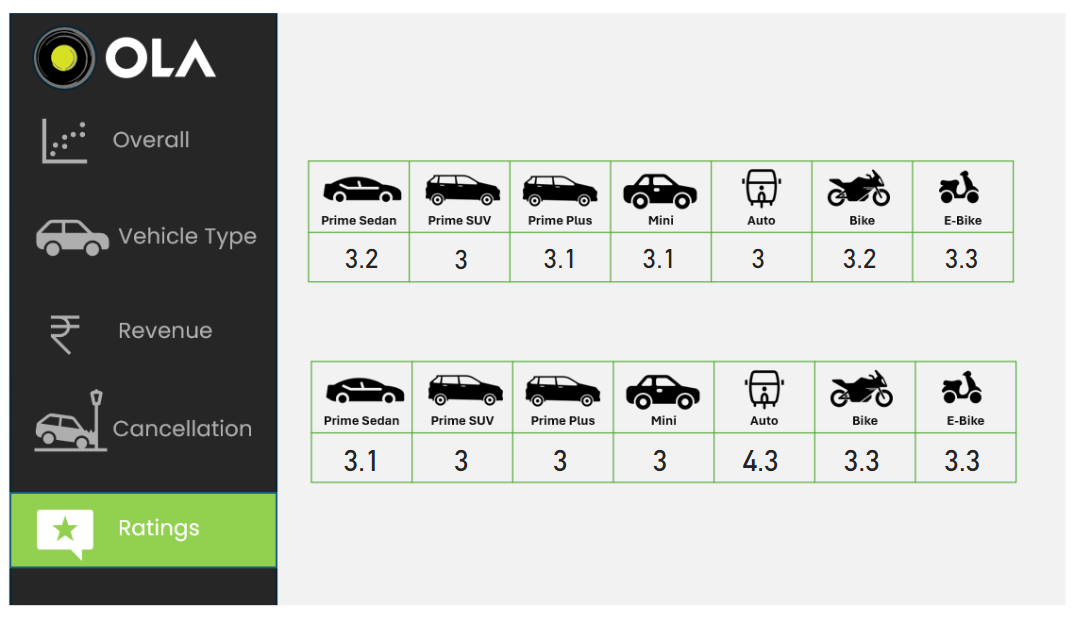

What the dashboard file says about the page in this screenshot:
{"tool":"powerbi","page":{"name":"Ratings","canvas":[1280,720],"ordinal":4},"visuals":[{"type":"card","fields":{"Values":["Min(ola booking.Driver_Ratings)"]},"box":[400.5,275,106.5,52.5],"z":0},{"type":"card","fields":{"Values":["Min(ola booking.Driver_Ratings)"]},"box":[507,278.1,104.9,49.3],"z":1000},{"type":"card","fields":{"Values":["Min(ola booking.Driver_Ratings)"]},"box":[611.9,275,104.9,52.5],"z":2000},{"type":"card","fields":{"Values":["Min(ola booking.Driver_Ratings)"]},"box":[716.8,275,104.9,52.5],"z":3000},{"type":"card","fields":{"Values":["Min(ola booking.Driver_Ratings)"]},"box":[821.7,275,104.9,52.5],"z":4000},{"type":"card","fields":{"Values":["Min(ola booking.Driver_Ratings)"]},"box":[926.6,275,109.7,52.5],"z":5000},{"type":"card","fields":{"Values":["Min(ola booking.Driver_Ratings)"]},"box":[1036.3,275,106.5,52.5],"z":6000},{"type":"card","fields":{"Values":["Min(ola booking.Customer_Rating)"]},"box":[400.5,492.7,106.5,44.5],"z":7000},{"type":"card","fields":{"Values":["Min(ola booking.Customer_Rating)"]},"box":[507,492.7,104.9,44.5],"z":8000},{"type":"card","fields":{"Values":["Min(ola booking.Customer_Rating)"]},"box":[611.9,492.7,104.9,44.5],"z":9000},{"type":"card","fields":{"Values":["Min(ola booking.Customer_Rating)"]},"box":[716.8,492.7,106.5,44.5],"z":10000},{"type":"card","fields":{"Values":["Min(ola booking.Customer_Rating)"]},"box":[826.5,492.7,100.1,44.5],"z":11000},{"type":"card","fields":{"Values":["Min(ola booking.Customer_Rating)"]},"box":[931.4,492.7,104.9,44.5],"z":12000},{"type":"card","fields":{"Values":["Min(ola booking.Customer_Rating)"]},"box":[1037.9,492.7,104.9,44.5],"z":13000},{"type":"actionButton","box":[84.2,549.9,279.7,82.6],"z":13001},{"type":"actionButton","box":[84.2,435.5,279.7,114.4],"z":13002},{"type":"actionButton","box":[84.2,321.1,279.7,114.4],"z":13003},{"type":"actionButton","box":[84.2,206.6,279.7,114.4],"z":13004},{"type":"actionButton","box":[84.2,133.5,279.7,73.1],"z":13005}]}

Visuals, with their boxes on the page's 1280x720 design canvas (x1, y1, x2, y2). These are canvas units, not pixel positions in the 1074x618 screenshot, which may show the page scaled, cropped or inside an application window:
card - Min(ola booking.Driver_Ratings): locate(400, 275, 507, 328)
card - Min(ola booking.Driver_Ratings): locate(507, 278, 612, 327)
card - Min(ola booking.Driver_Ratings): locate(612, 275, 717, 328)
card - Min(ola booking.Driver_Ratings): locate(717, 275, 822, 328)
card - Min(ola booking.Driver_Ratings): locate(822, 275, 927, 328)
card - Min(ola booking.Driver_Ratings): locate(927, 275, 1036, 328)
card - Min(ola booking.Driver_Ratings): locate(1036, 275, 1143, 328)
card - Min(ola booking.Customer_Rating): locate(400, 493, 507, 537)
card - Min(ola booking.Customer_Rating): locate(507, 493, 612, 537)
card - Min(ola booking.Customer_Rating): locate(612, 493, 717, 537)
card - Min(ola booking.Customer_Rating): locate(717, 493, 823, 537)
card - Min(ola booking.Customer_Rating): locate(826, 493, 927, 537)
card - Min(ola booking.Customer_Rating): locate(931, 493, 1036, 537)
card - Min(ola booking.Customer_Rating): locate(1038, 493, 1143, 537)
actionButton: locate(84, 550, 364, 632)
actionButton: locate(84, 436, 364, 550)
actionButton: locate(84, 321, 364, 436)
actionButton: locate(84, 207, 364, 321)
actionButton: locate(84, 134, 364, 207)
